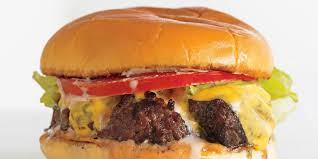hamburger: (31, 4, 286, 159)
